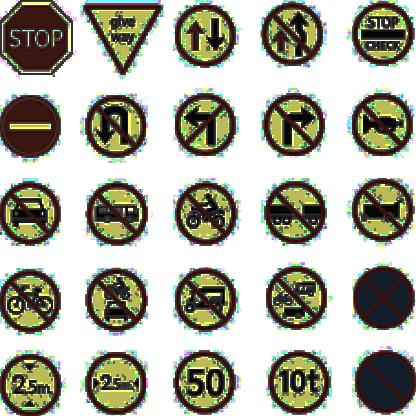No left turn: (172, 93, 241, 160)
